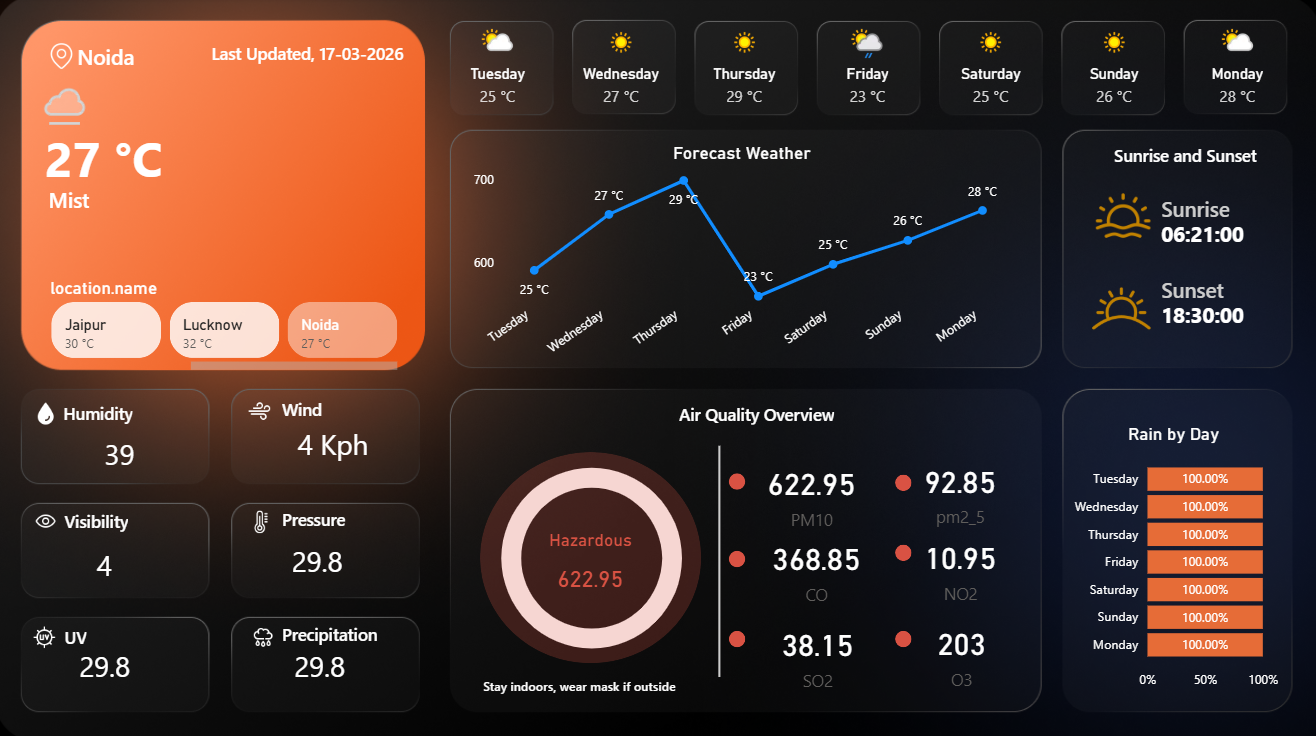

This screenshot's page, from the dashboard's own definition file:
{"tool":"powerbi","page":{"name":"Page 1","canvas":[1280,720],"ordinal":0},"visuals":[{"type":"donutChart","fields":{"Y":["CountNonNull(Current.current.air_quality.pm10)","Table.Left_Value_PM10"]},"box":[462,408,228,268],"z":0},{"type":"advancedSlicerVisual","fields":{"Values":["Locations.location.name"]},"box":[48.5,270.5,345.2,96.9],"z":1000},{"type":"shape","box":[42.2,113.3,272.2,82.2],"z":2000},{"type":"shape","box":[50,180,90,31.1],"z":3000},{"type":"shape","box":[74.4,25.6,133.3,63.3],"z":4000},{"type":"shape","box":[178.9,32.2,218.9,42.2],"z":5000},{"type":"image","box":[32.2,40,63.3,34.4],"z":6000},{"type":"cardVisual","fields":{"Data":["Min(Current.current.condition.icon)"]},"box":[0,57.1,120,84.3],"z":7000},{"type":"image","box":[16.7,490,64.4,32.2],"z":8000},{"type":"shape","box":[64.4,388.9,81.1,26.7],"z":9000},{"type":"shape","box":[65,492.5,81.2,26.2],"z":10000},{"type":"image","box":[16.7,385.6,64.4,32.2],"z":11000},{"type":"image","box":[224.4,491.1,64.4,31.1],"z":12000},{"type":"image","box":[223.3,383.3,64.4,32.2],"z":13000},{"type":"shape","box":[275,385,80,26.2],"z":14000},{"type":"shape","box":[275,491.2,80,26.2],"z":15000},{"type":"image","box":[16.2,602.5,63.8,32.5],"z":16000},{"type":"image","box":[226.2,602.5,63.8,32.5],"z":17000},{"type":"shape","box":[65,605,80,26.2],"z":18000},{"type":"shape","box":[275,602.5,96.2,26.2],"z":19000},{"type":"card","fields":{"Values":["Min(Current.current.humidity)"]},"box":[60,398.6,120,88.6],"z":20000},{"type":"card","fields":{"Values":["Table.Wind"]},"box":[255.7,388.6,141.4,88.6],"z":21000},{"type":"card","fields":{"Values":["Min(Current.current.pressure_in)"]},"box":[251.4,501.4,120,88.6],"z":22000},{"type":"card","fields":{"Values":["Min(Current.current.pressure_in)"]},"box":[45.7,602.9,120,88.6],"z":23000},{"type":"card","fields":{"Values":["Min(Current.current.pressure_in)"]},"box":[253.4,603.7,120,88.6],"z":24000},{"type":"card","fields":{"Values":["Min(Current.current.vis_km)"]},"box":[45.7,505.7,120,88.6],"z":25000},{"type":"advancedSlicerVisual","fields":{"Values":["Forecast_Day.Day_Name"]},"box":[424.7,19.3,837.3,89.3],"z":26000},{"type":"lineChart","title":"Forecast Weather","fields":{"Category":["Forecast_Day.Day_Name"],"Y":["Sum(Forecast_Day.forecast.forecastday.day.avgtemp_c)"]},"box":[454.7,140.5,532.3,225.5],"z":27000},{"type":"shape","box":[1048.3,115,150,53.3],"z":28000},{"type":"shape","box":[1122.5,203.9,109,48.5],"z":29000},{"type":"shape","box":[1122,282.3,109.8,48.3],"z":30000},{"type":"shape","box":[1122,179.8,109.8,48.3],"z":31000},{"type":"shape","box":[1122,258.2,109.8,48.3],"z":32000},{"type":"image","box":[1053.9,179.7,68.6,62.6],"z":33000},{"type":"image","box":[1039.7,258.4,94.9,84.8],"z":34000},{"type":"hundredPercentStackedBarChart","title":"Rain by Day","fields":{"Category":["Forecast_Day.Day_Name"],"Y":["CountNonNull(Forecast_Day.forecast.forecastday.day.daily_chance_of_rain)"]},"box":[1031.5,411.4,238.9,265.4],"z":35000},{"type":"shape","box":[603.8,388.8,150,53.8],"z":36000},{"type":"card","fields":{"Values":["Min(Current.current.air_quality.pm10)"]},"box":[716,426,146,108],"z":37000},{"type":"card","fields":{"Values":["Min(Current.current.air_quality.o3)"]},"box":[860,580,146,108],"z":38000},{"type":"card","fields":{"Values":["Min(Current.current.air_quality.so2)"]},"box":[722,582,146,108],"z":39000},{"type":"card","fields":{"Values":["Min(Current.current.air_quality.co)"]},"box":[720,498,146,108],"z":40000},{"type":"card","fields":{"Values":["Min(Current.current.air_quality.no2)"]},"box":[860,506,144,92],"z":41000},{"type":"shape","box":[708,460,16,16],"z":42000},{"type":"shape","box":[708,534,16,16],"z":43000},{"type":"shape","box":[684,452,18,224],"z":44000},{"type":"card","fields":{"Values":["Min(Current.current.air_quality.pm10)"]},"box":[501.9,513.9,146,76],"z":45000},{"type":"shape","box":[468.1,439.1,213.5,203.9],"z":46000},{"type":"shape","box":[464,648,214,54],"z":47000},{"type":"shape","box":[708.6,611.7,16.2,16.2],"z":48000},{"type":"shape","box":[868.1,529,16.2,16.2],"z":49000},{"type":"shape","box":[868.1,460.3,16.2,16.2],"z":50000},{"type":"shape","box":[868.1,611.7,16.2,16.2],"z":51000},{"type":"card","fields":{"Values":["Min(Current.pm25)"]},"box":[860.1,432.1,143.3,90.9],"z":52000}]}

Visuals, with their boxes in screenshot pixels (x1, y1, x2, y2), scaled from the page's 1280x720 canvas onto the 1316x736 screenshot:
donutChart - CountNonNull(Current.current.air_quality.pm10) x Table.Left_Value_PM10: 475 417 709 691
advancedSlicerVisual - Locations.location.name: 50 277 405 376
shape: 43 116 323 200
shape: 51 184 144 216
shape: 76 26 214 91
shape: 184 33 409 76
image: 33 41 98 76
cardVisual - Min(Current.current.condition.icon): 0 58 123 145
image: 17 501 83 534
shape: 66 398 150 425
shape: 67 503 150 530
image: 17 394 83 427
image: 231 502 297 534
image: 230 392 296 425
shape: 283 394 365 420
shape: 283 502 365 529
image: 17 616 82 649
image: 233 616 298 649
shape: 67 618 149 645
shape: 283 616 382 643
card - Min(Current.current.humidity): 62 407 185 498
card - Table.Wind: 263 397 408 488
card - Min(Current.current.pressure_in): 258 513 382 603
card - Min(Current.current.pressure_in): 47 616 170 707
card - Min(Current.current.pressure_in): 261 617 384 708
card - Min(Current.current.vis_km): 47 517 170 608
advancedSlicerVisual - Forecast_Day.Day_Name: 437 20 1297 111
"Forecast Weather" lineChart: 467 144 1015 374
shape: 1078 118 1232 172
shape: 1154 208 1266 258
shape: 1154 289 1266 338
shape: 1154 184 1266 233
shape: 1154 264 1266 313
image: 1084 184 1154 248
image: 1069 264 1167 351
"Rain by Day" hundredPercentStackedBarChart: 1061 421 1306 692
shape: 621 397 775 452
card - Min(Current.current.air_quality.pm10): 736 435 886 546
card - Min(Current.current.air_quality.o3): 884 593 1034 703
card - Min(Current.current.air_quality.so2): 742 595 892 705
card - Min(Current.current.air_quality.co): 740 509 890 619
card - Min(Current.current.air_quality.no2): 884 517 1032 611
shape: 728 470 744 487
shape: 728 546 744 562
shape: 703 462 722 691
card - Min(Current.current.air_quality.pm10): 516 525 666 603
shape: 481 449 701 657
shape: 477 662 697 718
shape: 729 625 745 642
shape: 893 541 909 557
shape: 893 471 909 487
shape: 893 625 909 642
card - Min(Current.pm25): 884 442 1032 535
